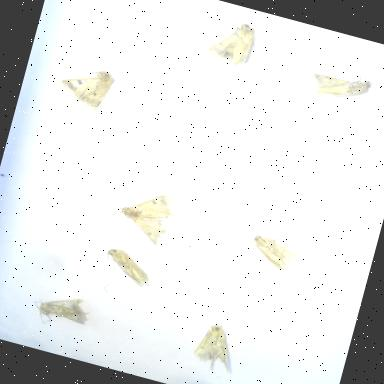abw: (94, 176, 187, 252), (50, 42, 135, 120), (197, 0, 274, 77), (237, 216, 319, 288), (302, 54, 384, 118), (184, 316, 250, 382), (92, 238, 166, 296), (25, 284, 100, 340)
